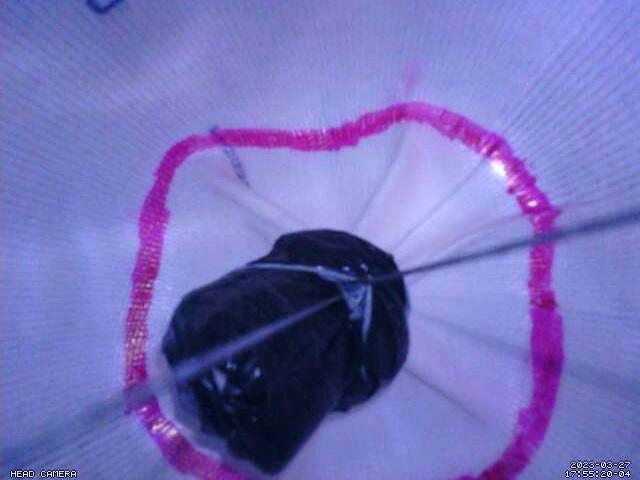red-circle: (122, 101, 567, 480)
